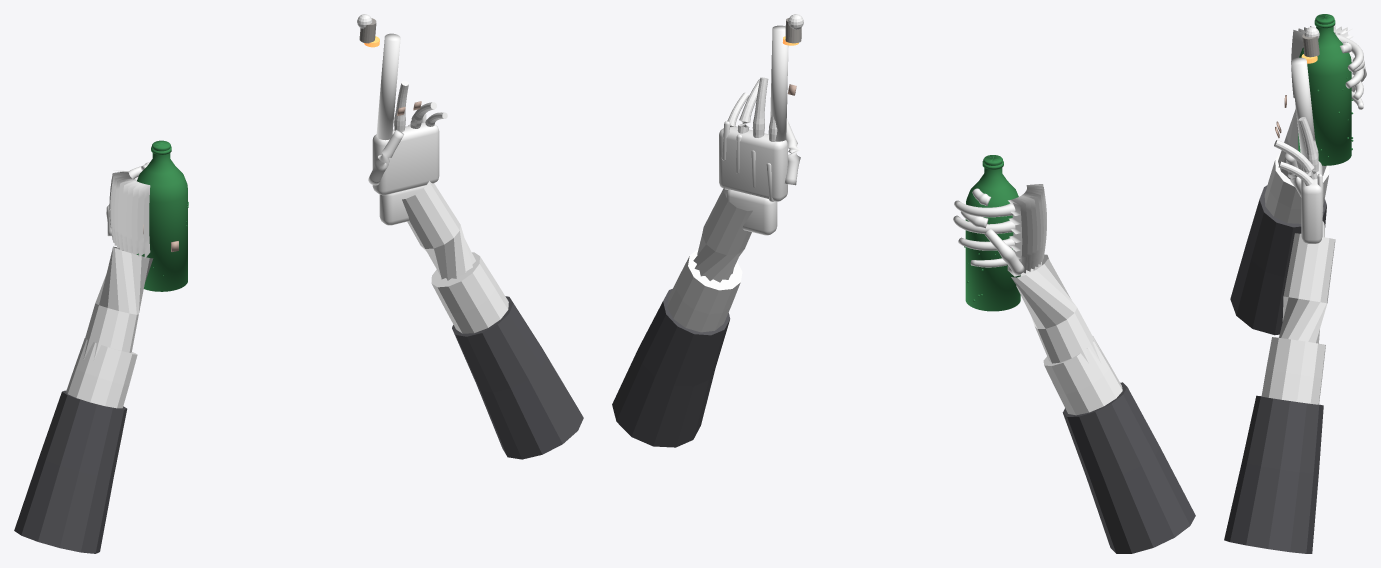
The model's file is viewmodel.glb.
The picture shows the model from 3 angles, left to right: view 1: azimuth 30°, elevation 25°; view 2: azimuth 150°, elevation 25°; view 3: azimuth 270°, elevation 25°; orthographic projection. The views are drawn at different scales.
Parts seen in each view (by area): view 1: lf_sleeve, rh_sleeve, bottle_glass, lf_wrist, rh_wrist.001, rh_cuff, rh_palm, lf_cuff, lf_palm, cigar_body, rh_wrist, rh_thumb; view 2: lf_sleeve, rh_sleeve, lf_wrist, bottle_glass, rh_palm, rh_cuff, lf_cuff, rh_wrist.001, lf_palm, cigar_body, rh_wrist; view 3: rh_sleeve, lf_sleeve, bottle_glass, rh_wrist.001, rh_cuff, lf_cuff, rh_palm, cigar_body, lf_wrist, lf_palm, rh_middle, rh_ring (+5 smaller).
Boxes of the visible parts, <box> form: lf_sleeve: <box>14,390,127,553</box>; rh_sleeve: <box>452,296,583,459</box>; bottle_glass: <box>136,140,187,291</box>; lf_wrist: <box>81,246,153,360</box>; rh_wrist.001: <box>402,181,475,280</box>; rh_cuff: <box>431,252,508,333</box>; rh_palm: <box>372,122,439,195</box>; lf_cuff: <box>66,338,137,408</box>; lf_palm: <box>109,170,150,258</box>; cigar_body: <box>376,33,400,140</box>; rh_wrist: <box>379,185,425,225</box>; rh_thumb: <box>368,129,403,185</box>; lf_sleeve: <box>1062,382,1195,553</box>; rh_sleeve: <box>612,289,730,447</box>; lf_wrist: <box>1011,254,1100,363</box>; bottle_glass: <box>965,155,1020,311</box>; rh_palm: <box>719,126,787,201</box>; rh_cuff: <box>667,249,742,332</box>; lf_cuff: <box>1043,336,1122,415</box>; rh_wrist.001: <box>693,187,752,282</box>; lf_palm: <box>1007,184,1046,276</box>; cigar_body: <box>770,25,788,141</box>; rh_wrist: <box>726,189,777,235</box>; rh_sleeve: <box>1224,395,1323,553</box>; lf_sleeve: <box>1230,185,1326,335</box>; bottle_glass: <box>1298,14,1351,165</box>; rh_wrist.001: <box>1279,233,1335,343</box>; rh_cuff: <box>1261,337,1325,404</box>; lf_cuff: <box>1264,152,1329,223</box>; rh_palm: <box>1301,161,1322,243</box>; cigar_body: <box>1291,57,1315,157</box>; lf_wrist: <box>1278,108,1326,179</box>; lf_palm: <box>1291,25,1353,97</box>; rh_middle: <box>1298,117,1318,171</box>; rh_ring: <box>1274,140,1317,179</box>.
Bounding box in the file's own units: 0.7921 × 0.6238 × 0.1761.
